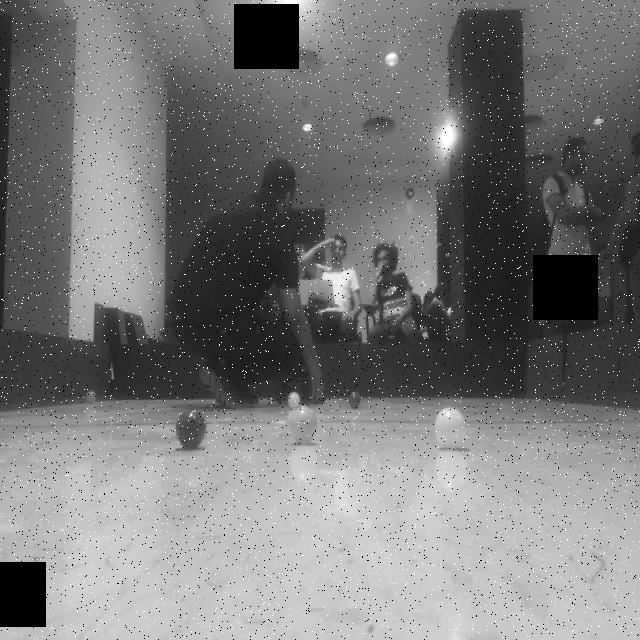ball: (175, 406, 210, 449), (286, 384, 304, 410), (83, 385, 102, 408), (348, 388, 364, 408)
